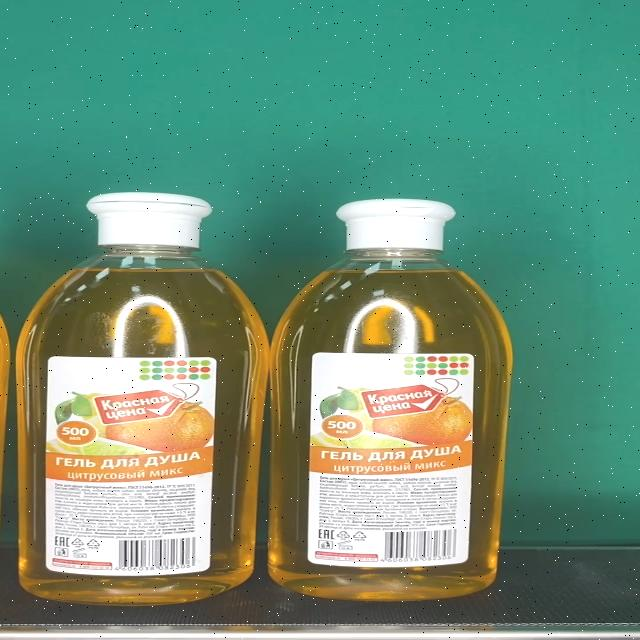Bottle: (16, 192, 270, 604), (267, 199, 513, 602)
Cap: (87, 192, 211, 248), (336, 200, 458, 252)
